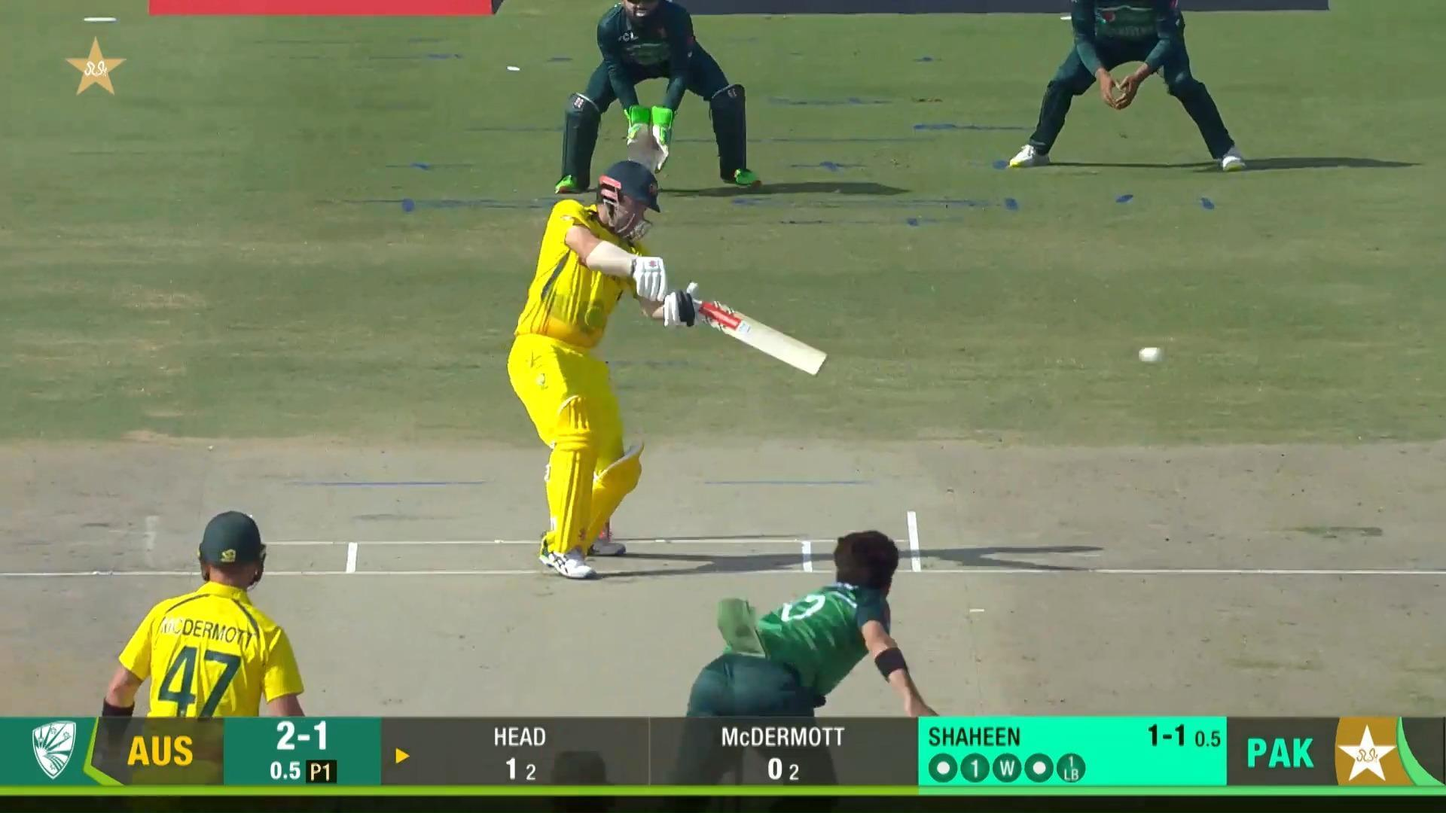BM 1: (506, 160, 829, 580)
BO: (686, 528, 938, 717)
